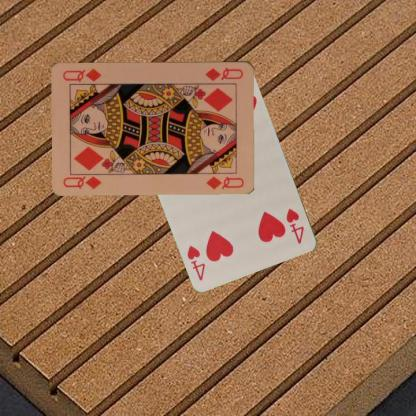4h: (284, 206, 306, 246)
Qd: (61, 171, 105, 190), (203, 64, 244, 82)
